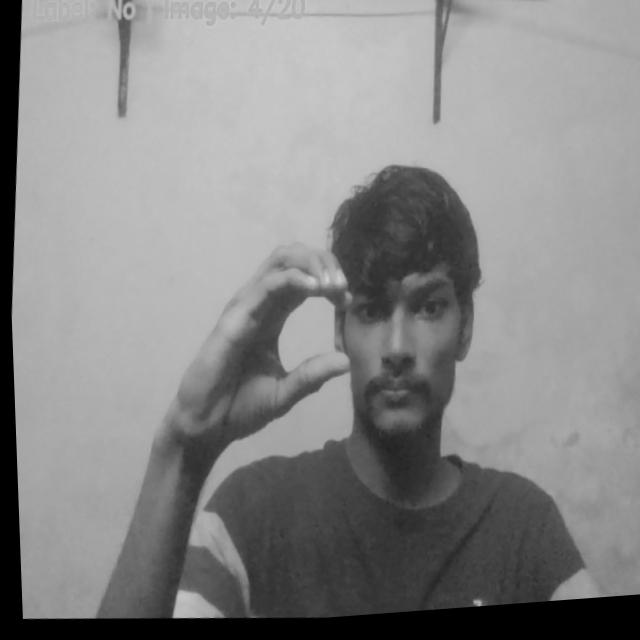No: (169, 235, 362, 455)
